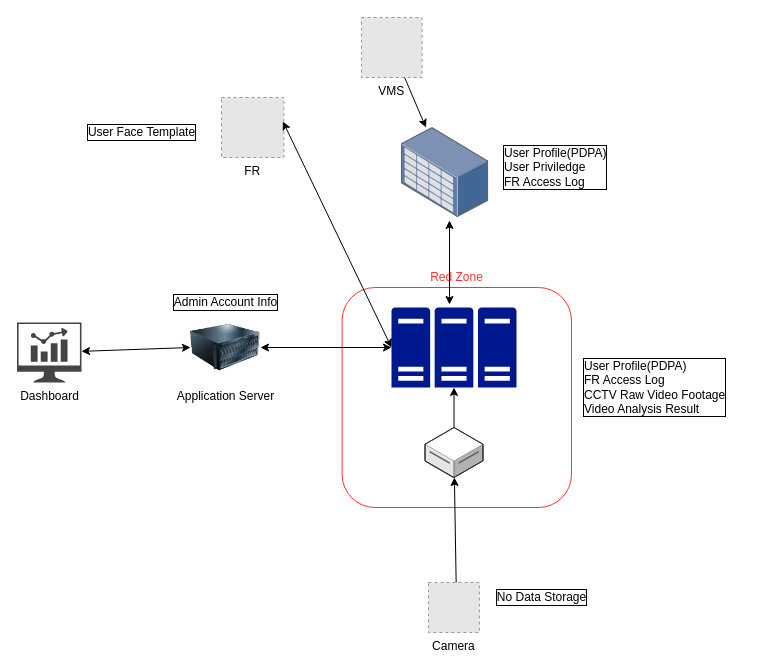
Image size: 759x671. Some labels were removed from this diagram. Grey dashed boxes stand in for pictures. Here are the shapes that lost their labels. From the top down, the centre of each, then its label:
At [444,172]: "IBSS".
At [453,347]: "FR Central Server(FRCS)".
At [453,452]: "Video Edgebox".
